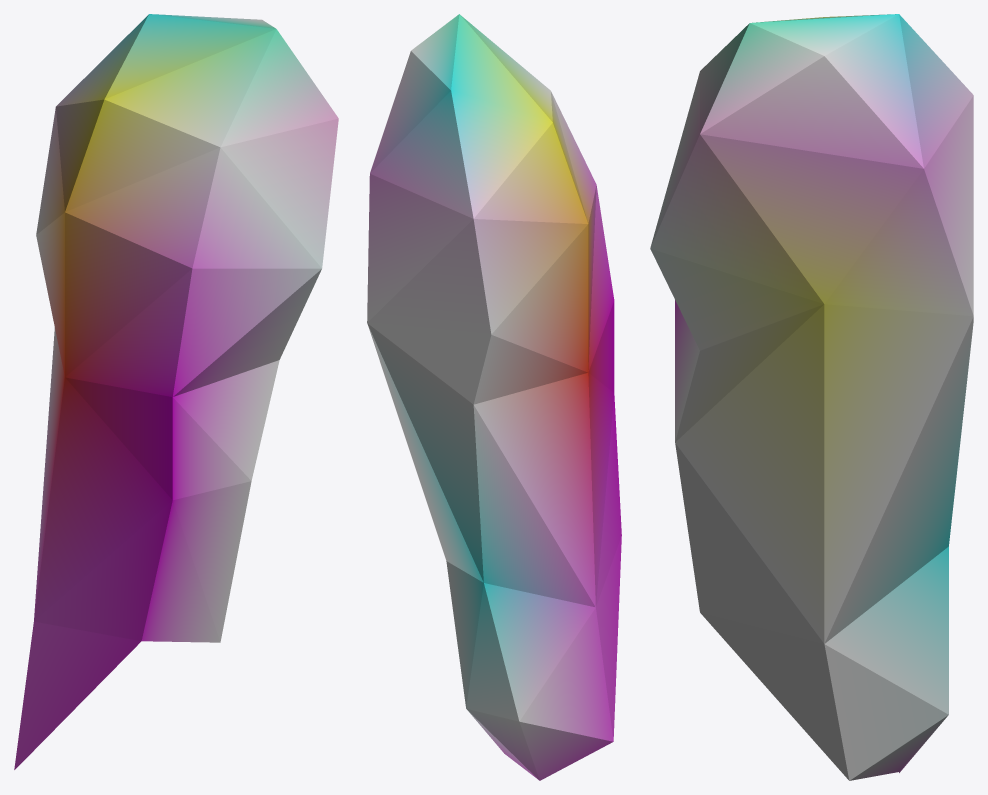
3 views of the same model, side by side, from view 1: azimuth 30°, elevation 25°; view 2: azimuth 150°, elevation 25°; view 3: azimuth 270°, elevation 25° (orthographic). The views are drawn at different scales.
Parts seen in each view (by area): view 1: model_117A; view 2: model_117A; view 3: model_117A.
Part boxes in pixels (x1=…): model_117A: x1=14, y1=14, x2=338, y2=769; model_117A: x1=367, y1=14, x2=621, y2=780; model_117A: x1=650, y1=14, x2=973, y2=780.
Bounding box in the file's own units: 13 × 37 × 13.
